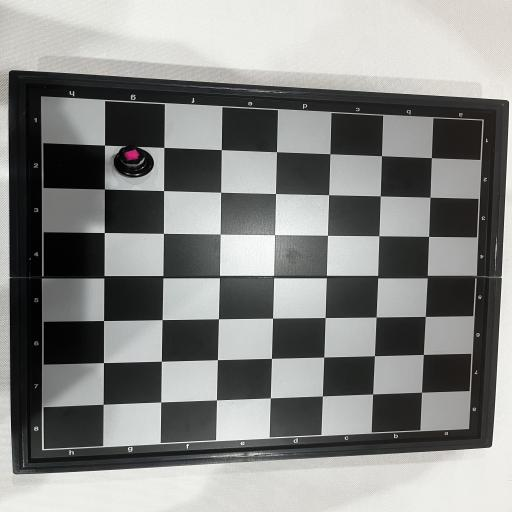Black rook: (114, 145, 154, 178)
